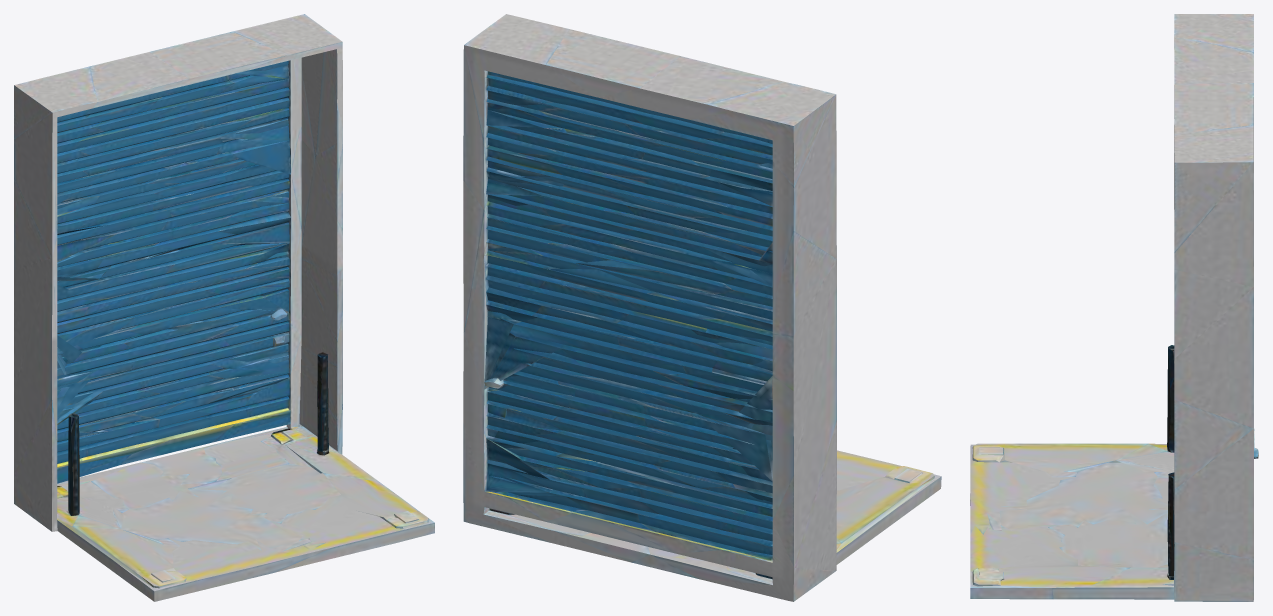
File: dock.glb
3 renders of one model, left to right at view 1: azimuth 30°, elevation 25°; view 2: azimuth 150°, elevation 25°; view 3: azimuth 270°, elevation 25°, orthographic. The views are drawn at different scales.
Size of the model in its own units: 1.38 by 1.9 by 1.13.
1 material, 1 textured.
